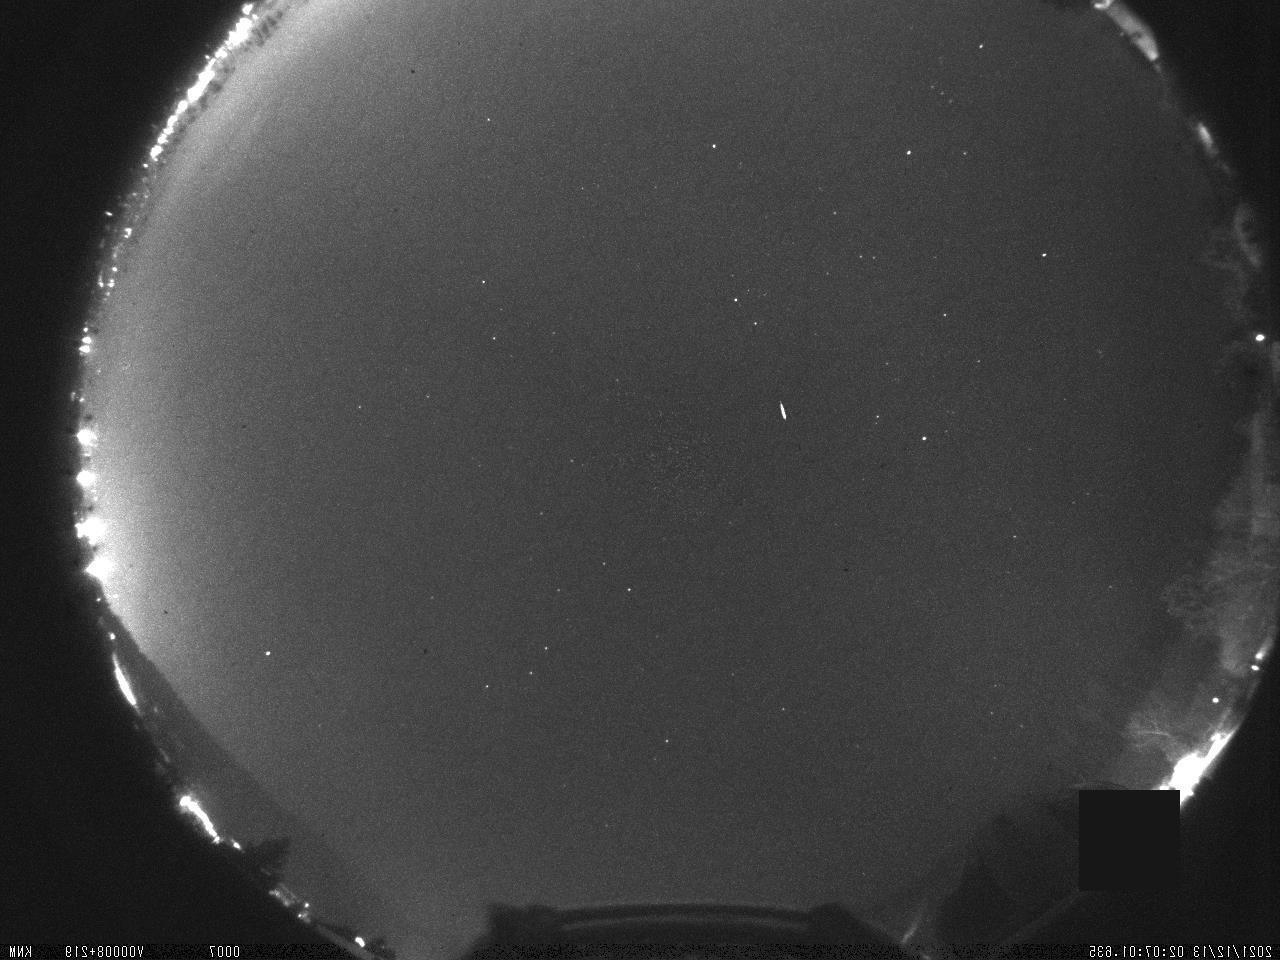meteor: (772, 393, 795, 430)
